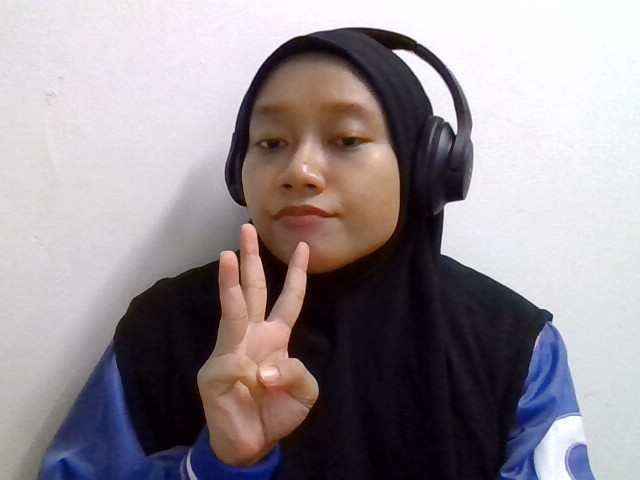Selangor: (197, 202, 342, 461)
